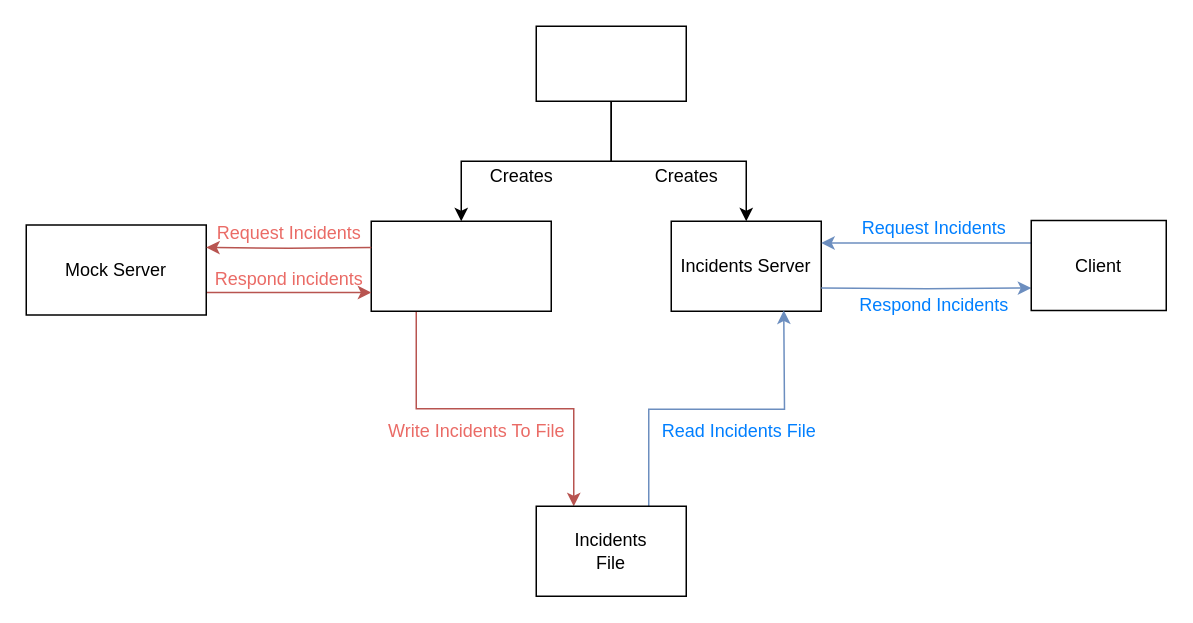
The diagram is 1193 pixels wide and 623 high, and some of its shapes have lost their labels. Here are the shapes that lost their labels. From the top down, the centre of each, then its label:
At (610,63): "Main".
At (460,265): "Data Collector (Thread)".
